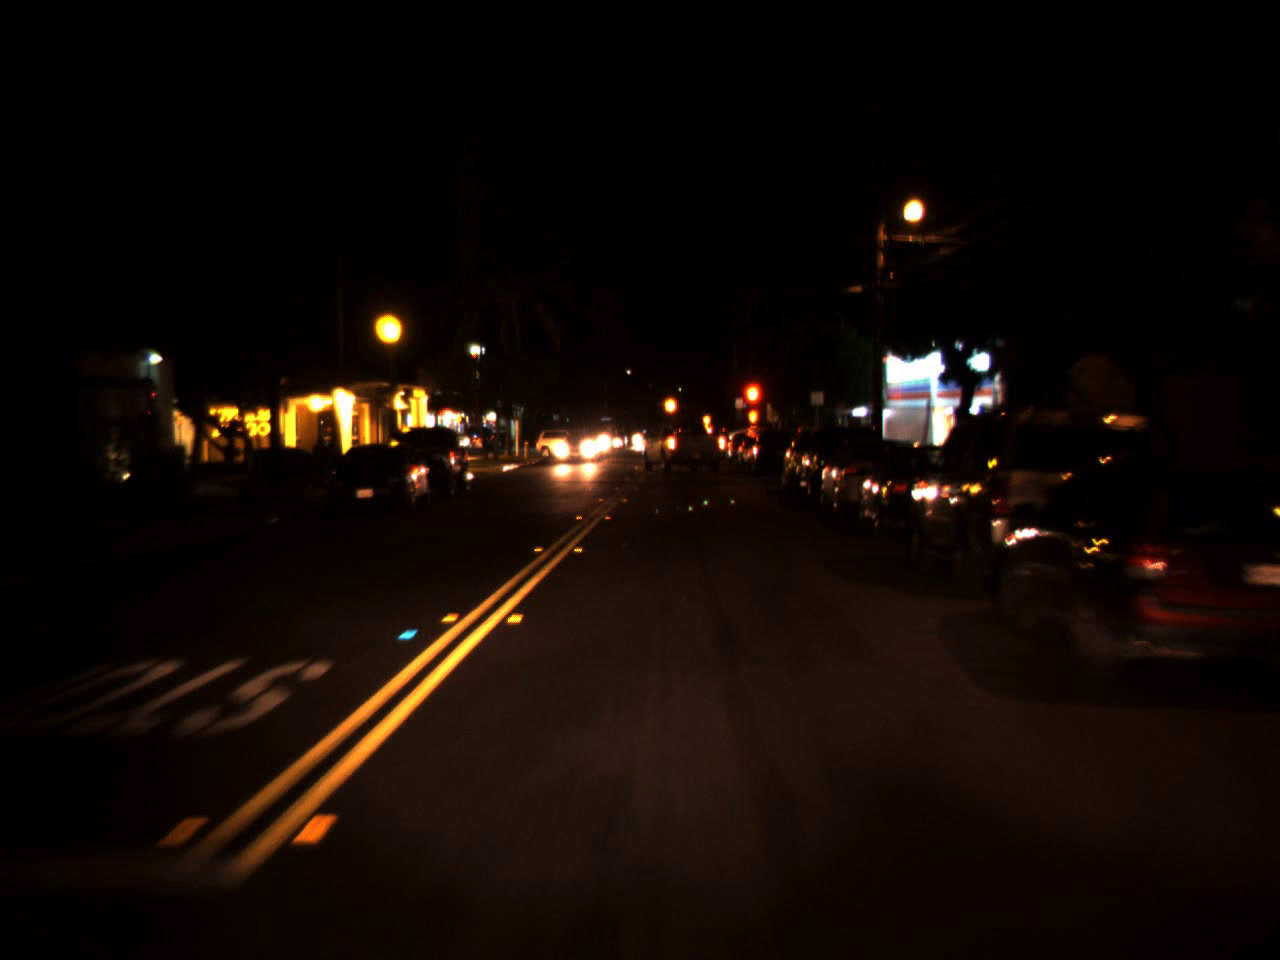stop: (739, 379, 766, 433)
warning: (662, 386, 680, 421), (702, 410, 712, 427)
